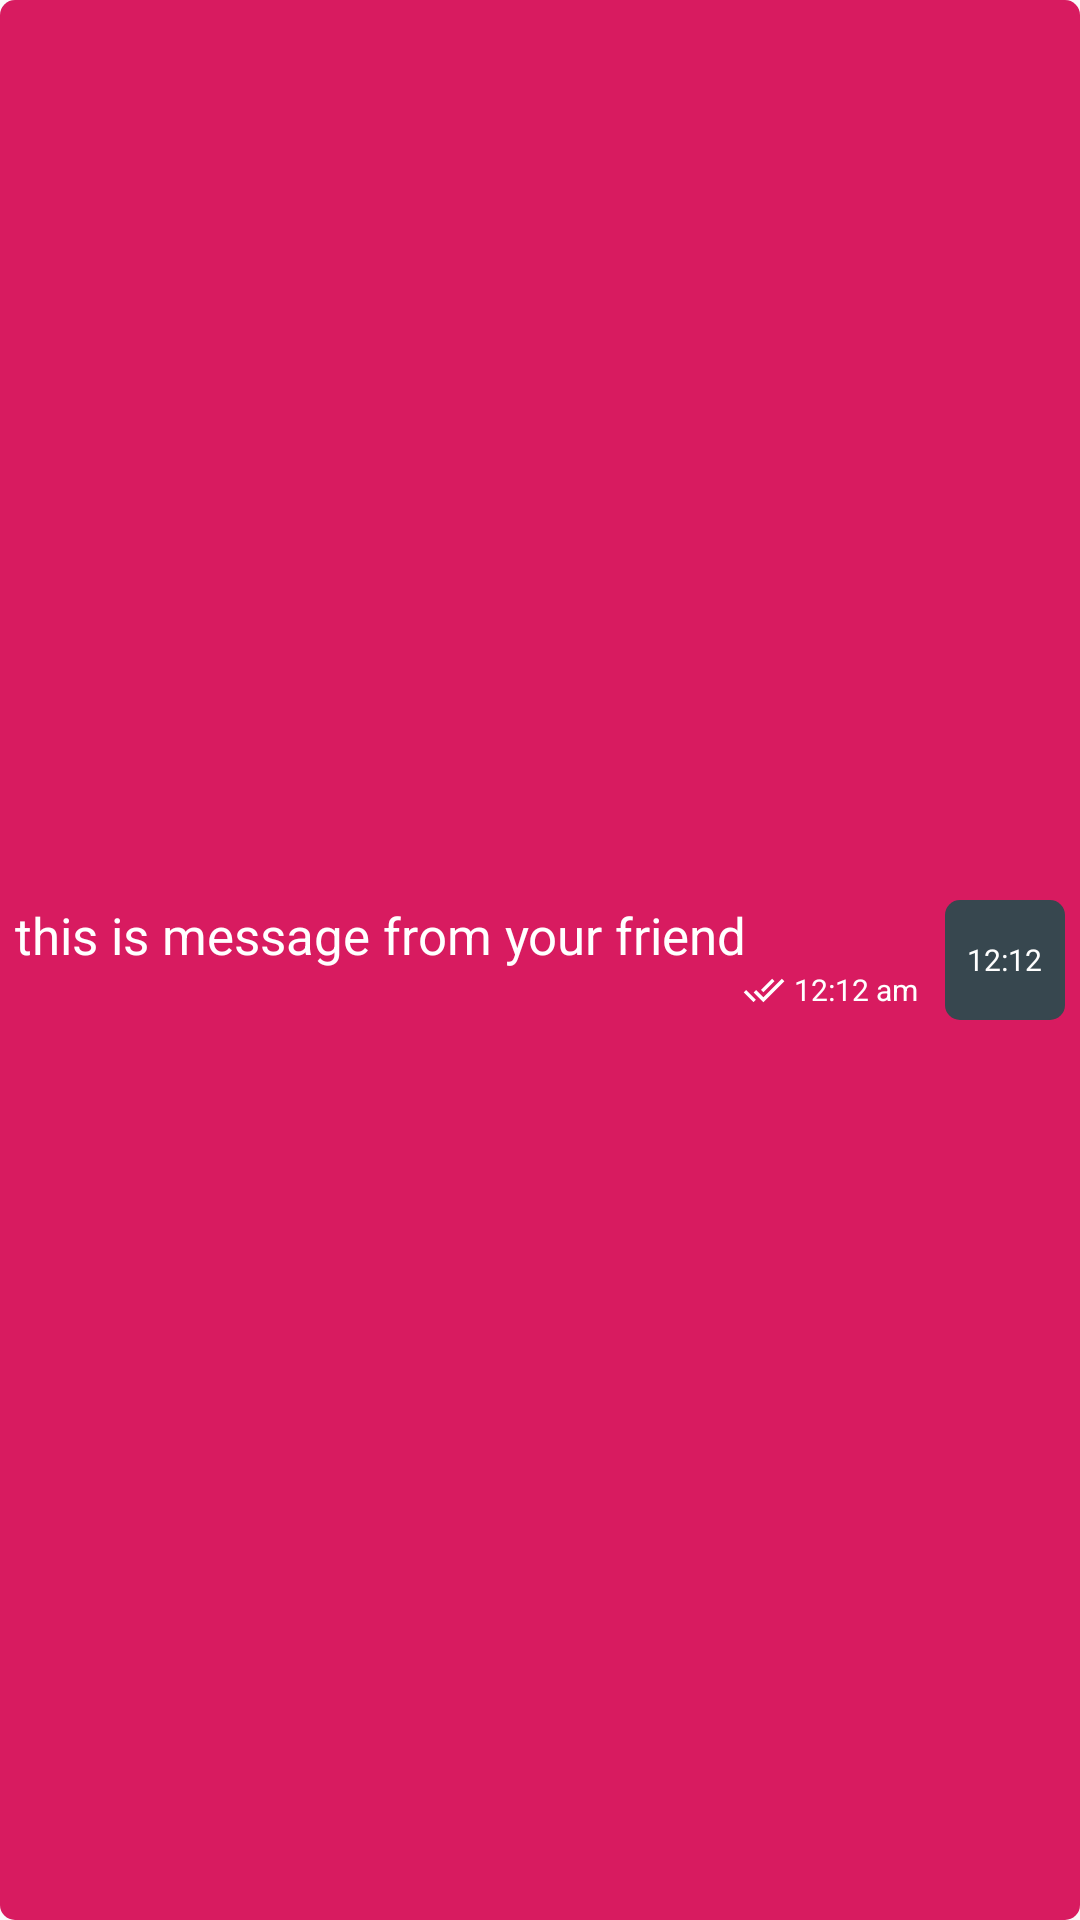

Point at icon controls on the screen. Image size 1080px x 1920px, points as point (x, y).
done all: point (764, 990)
